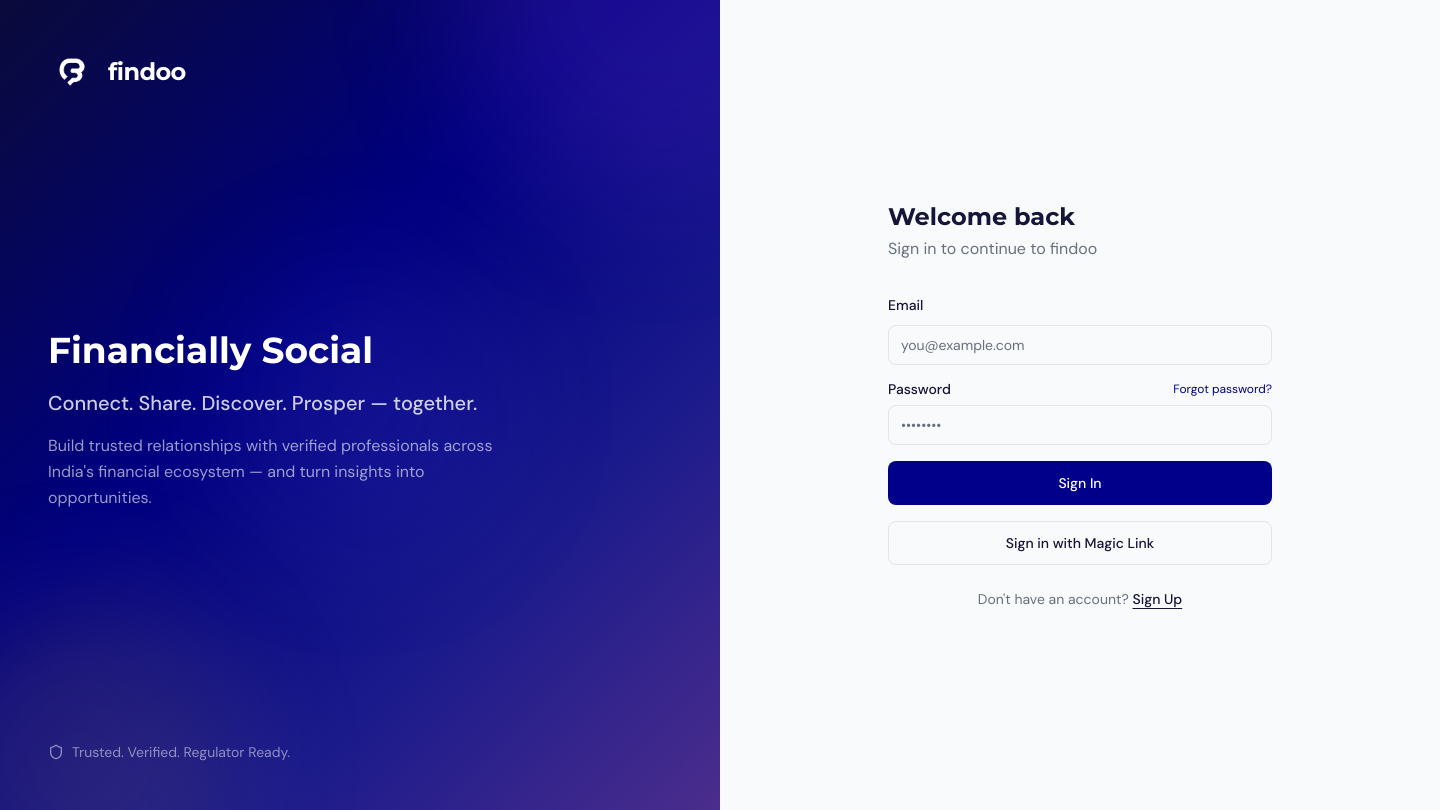
Test: Auth Page Integration › Forgot Password Flow › shows forgot password dialog
Click the button "Forgot password?".
click(1223, 389)  # box [1173,381,1272,397]
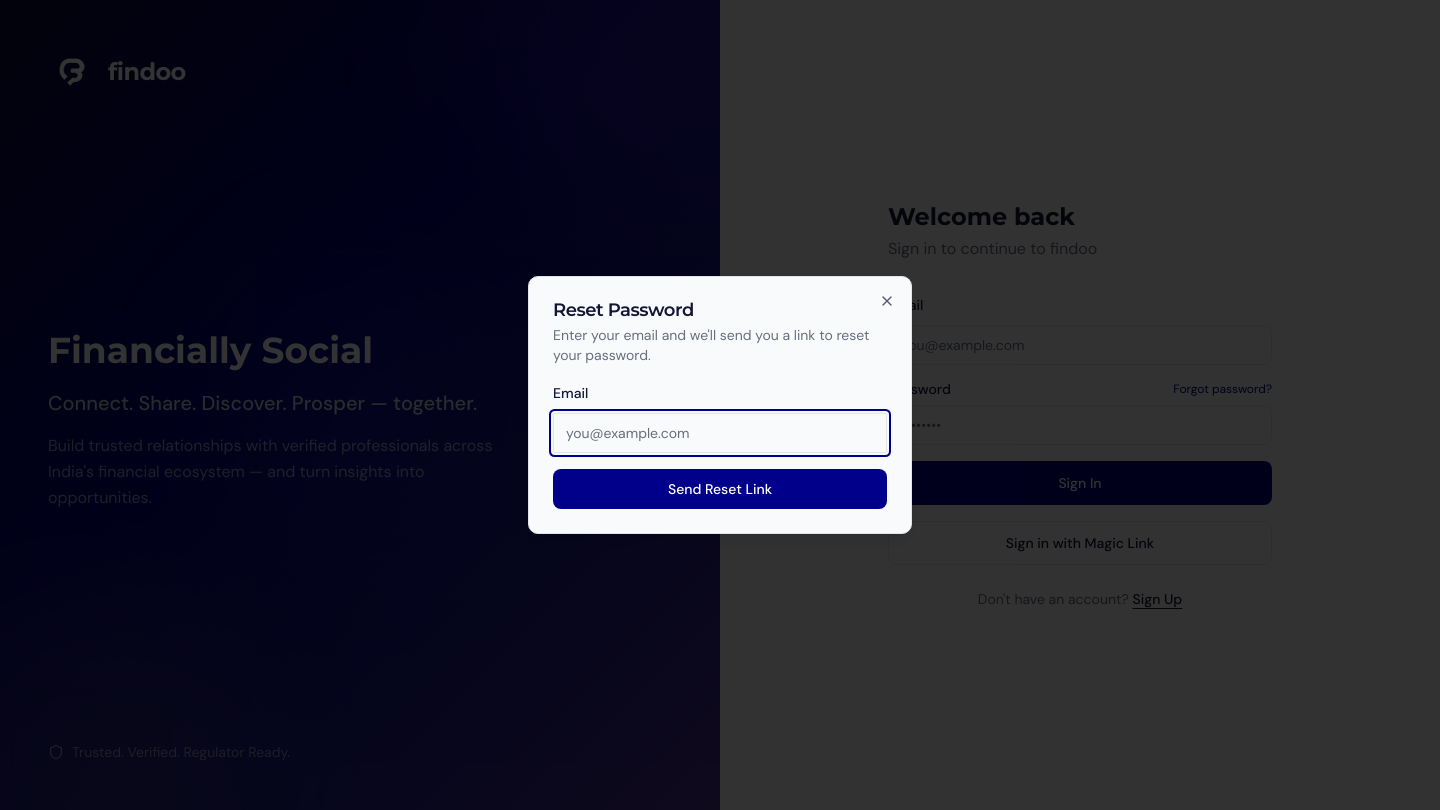
Result: the heading "Reset Password" is shown at [553,299,694,321]
